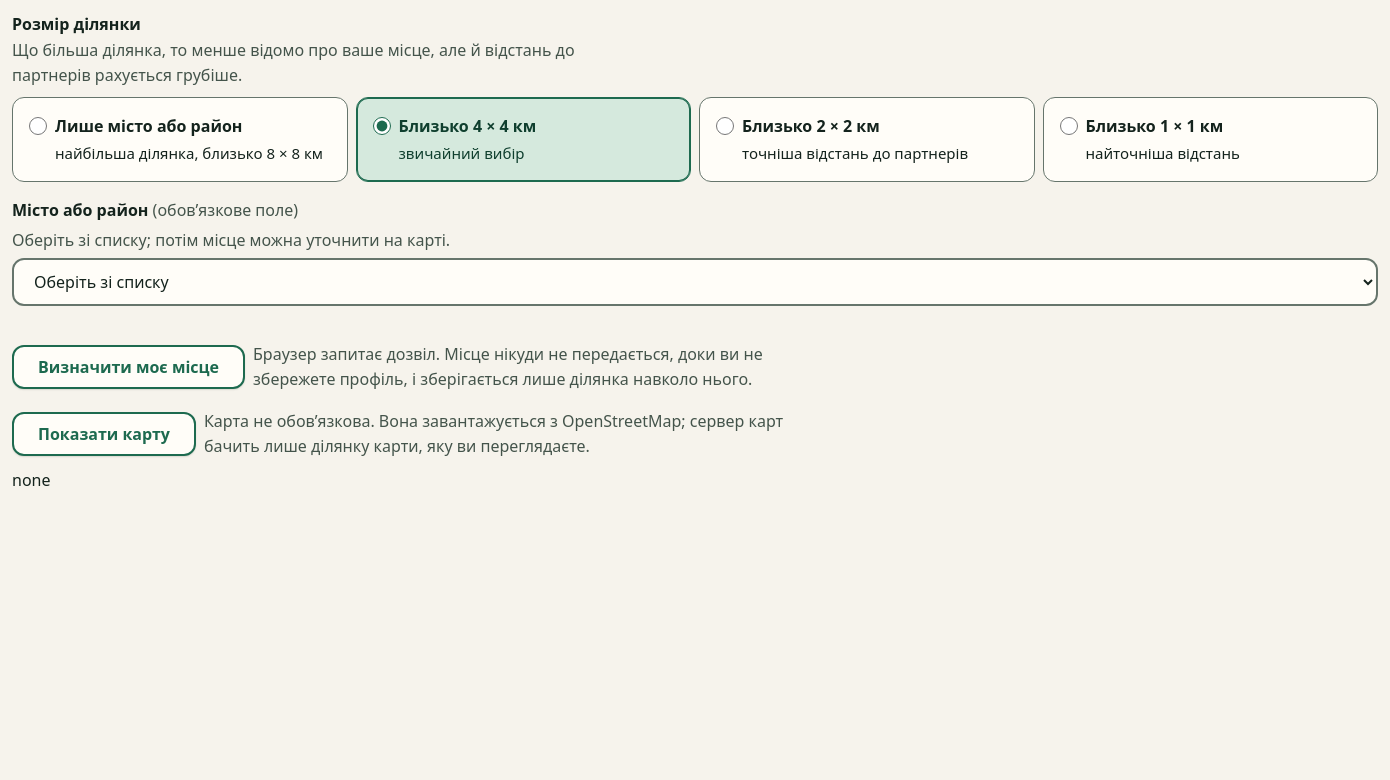
Test case: LocationPicker when the map cannot be loaded › tells the user in an alert and leaves the list working
Click the button "Показати карту" at {"x": 104, "y": 434}, box left=12, top=412, right=196, bottom=456
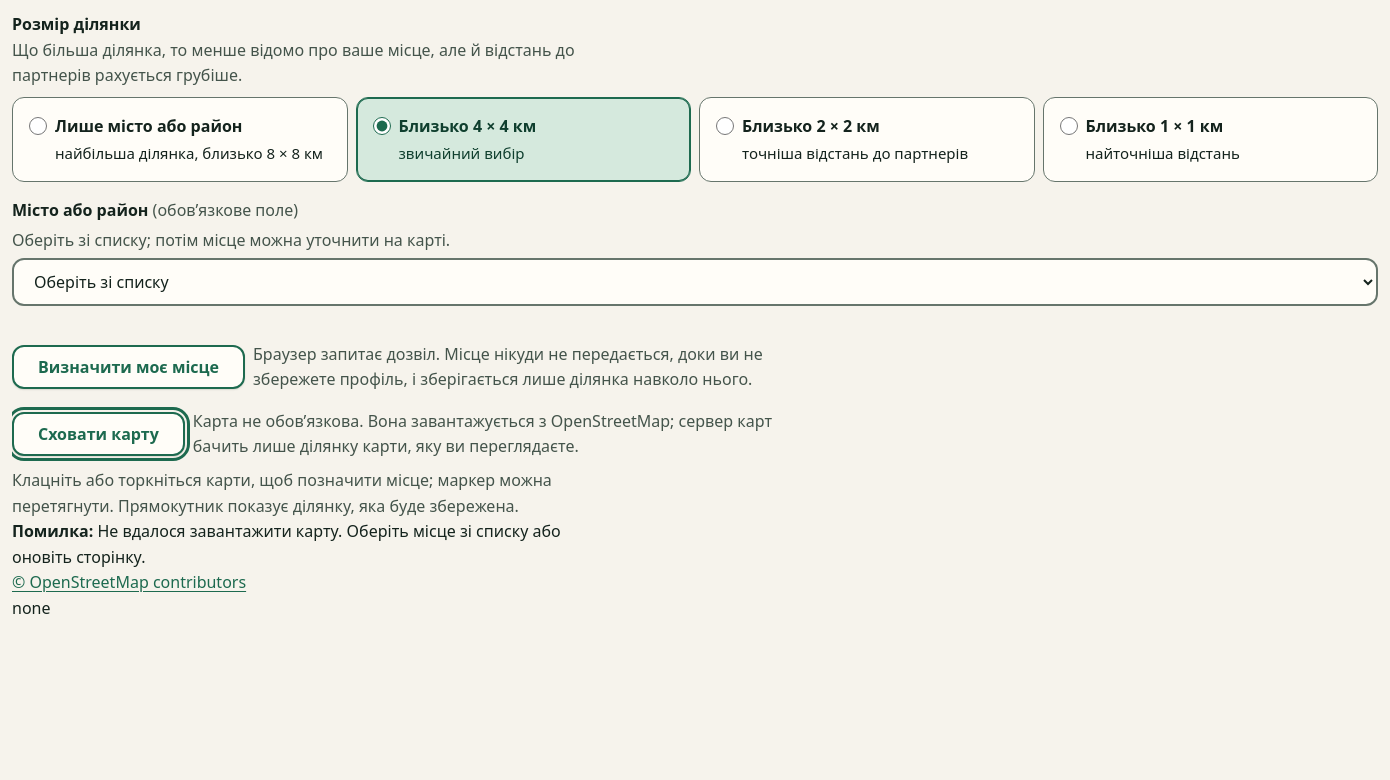
Result: the message shows "Не вдалося завантажити карту. Оберіть місце зі списку або оновіть сторінку." at left=12, top=520, right=561, bottom=568
Select "Київ" in the dropdown labelled "Місто або район (обов’язкове поле)" at {"x": 695, "y": 282}, box left=12, top=258, right=1378, bottom=306
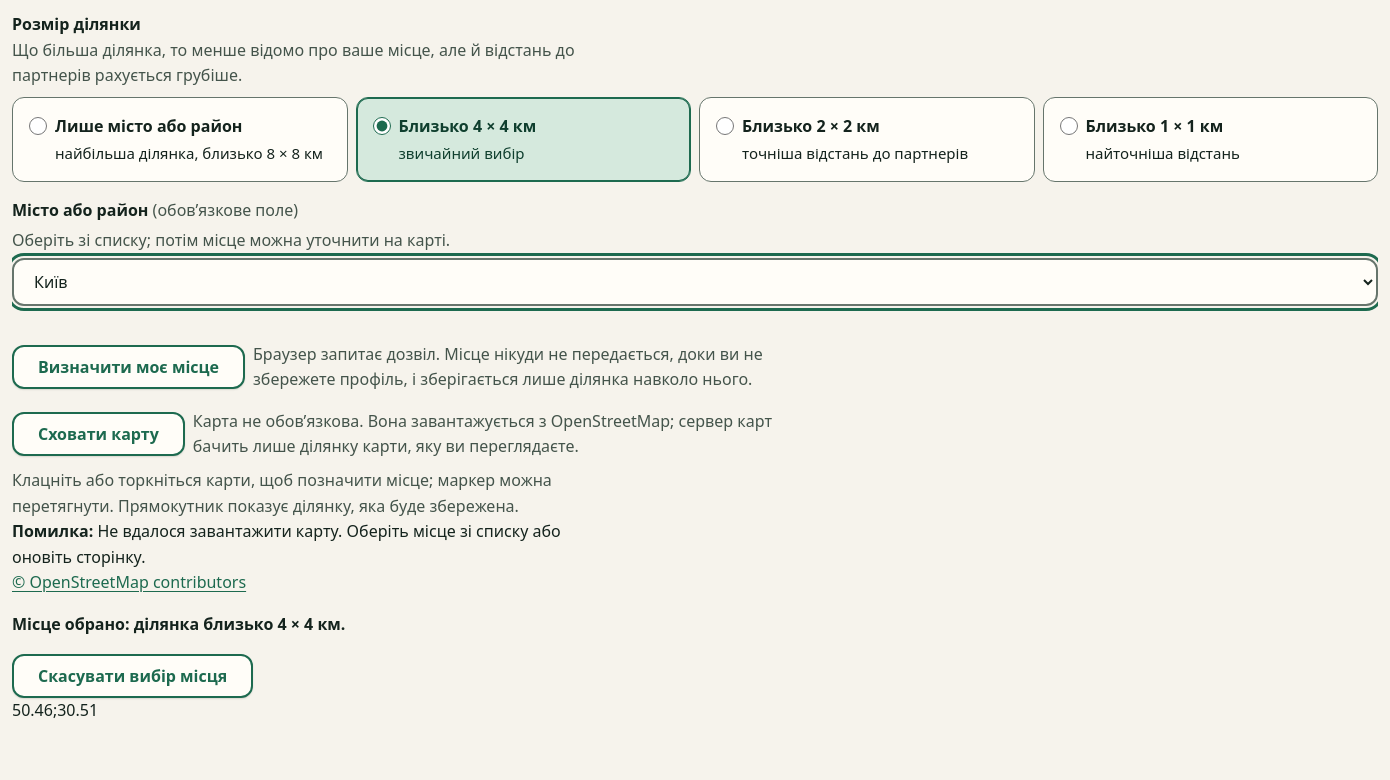
Result: the text with test id "value" reads "50.46;30.51" at left=12, top=698, right=98, bottom=720
